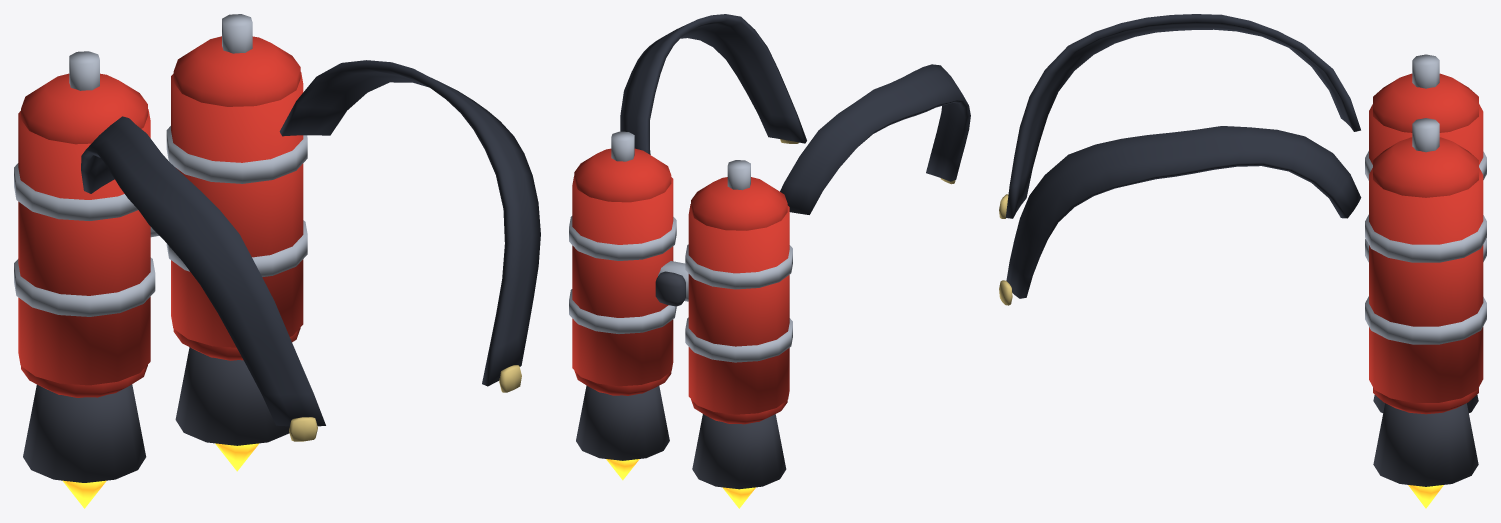
Rendered from back_jetpack.glb.
3 renders of one model, left to right at view 1: azimuth 30°, elevation 25°; view 2: azimuth 150°, elevation 25°; view 3: azimuth 270°, elevation 25°, orthographic. The views are drawn at different scales.
Visible parts, largest first — view 1: BackJetpack; view 2: BackJetpack; view 3: BackJetpack.
Part boxes in pixels (box(x1,y1,x2,y2)): BackJetpack: box(14, 14, 540, 508); BackJetpack: box(569, 14, 970, 508); BackJetpack: box(999, 14, 1486, 508).
Bounding box in the file's own units: 0.478 × 0.5967 × 0.6486.
